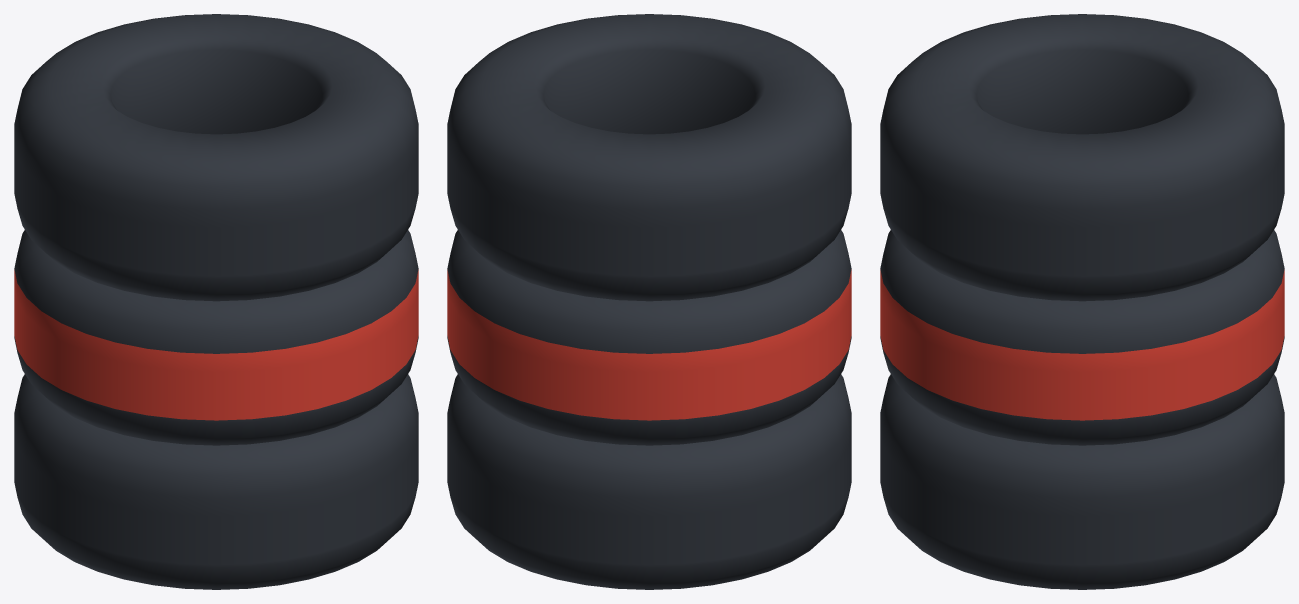
The model's file is deco-llantas.glb.
3 renders of one model, left to right at view 1: azimuth 30°, elevation 25°; view 2: azimuth 150°, elevation 25°; view 3: azimuth 270°, elevation 25°, orthographic.
Parts seen in each view (by area): view 1: deco-llantas; view 2: deco-llantas; view 3: deco-llantas.
Part boxes in pixels (x1,y1,x2,y2): deco-llantas: (14,14,418,589); deco-llantas: (447,14,851,589); deco-llantas: (880,14,1284,589).
Size of the model in its own units: 1.1 by 1.3 by 1.1.
